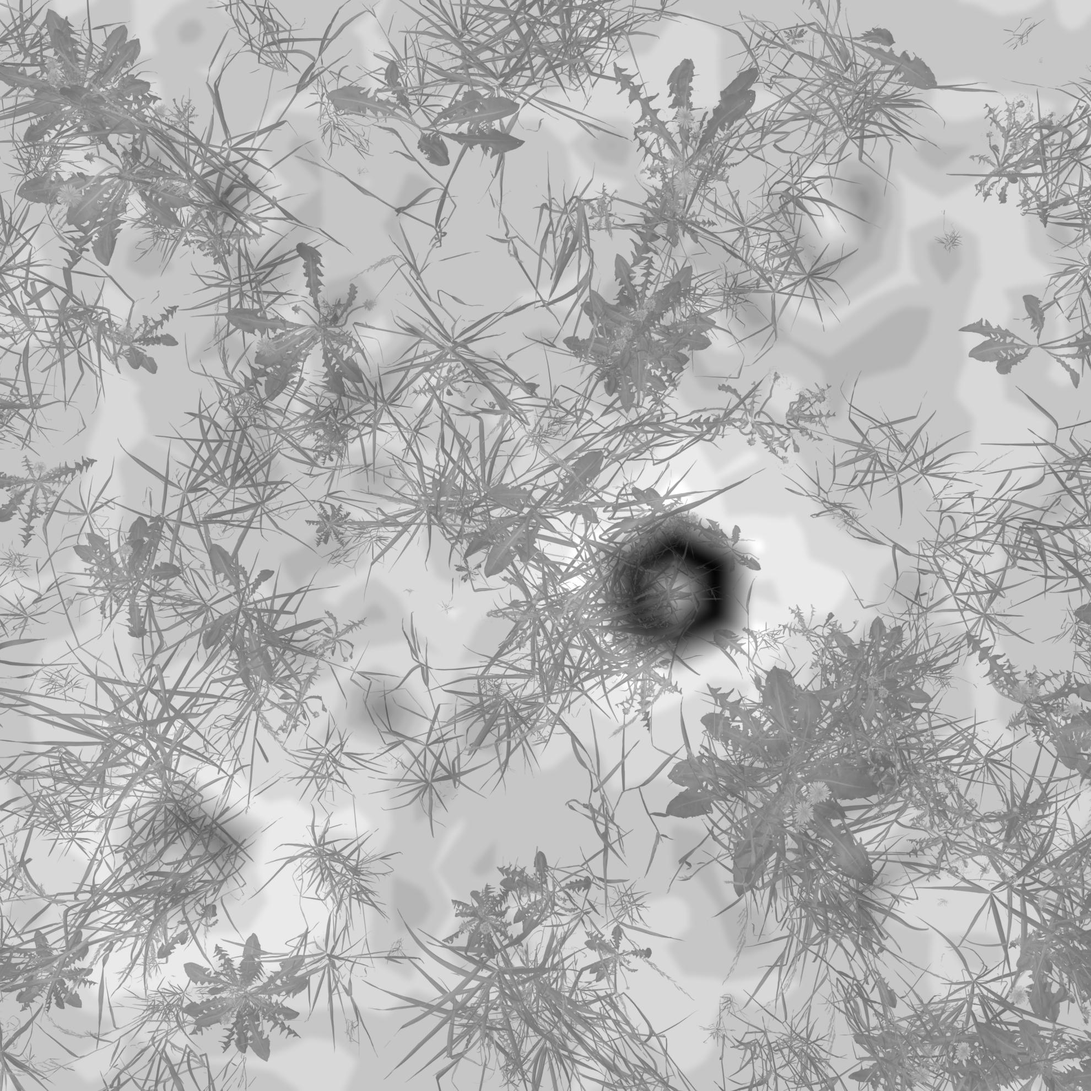landmine: (600, 511, 758, 658), (113, 764, 264, 907)
